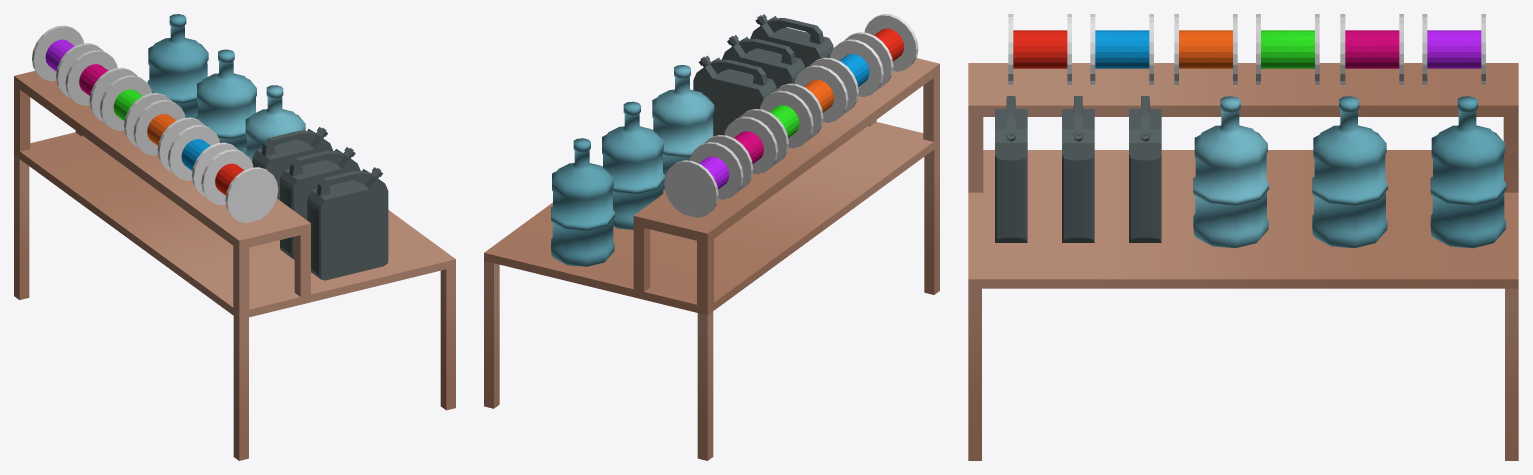
Rendered from Plastic Zone.fbx.
The picture shows the model from 3 angles, left to right: view 1: azimuth 30°, elevation 25°; view 2: azimuth 150°, elevation 25°; view 3: azimuth 270°, elevation 25°; orthographic projection. The views are drawn at different scales.
Parts seen in each view (by area): view 1: Cube.106; view 2: Cube.106; view 3: Cube.106.
Boxes of the visible parts, box(x1,y1,x2,y2) form: Cube.106: box(14, 14, 455, 460); Cube.106: box(484, 14, 939, 460); Cube.106: box(968, 14, 1518, 460).
Size of the model in its own units: 125 by 225 by 150.
